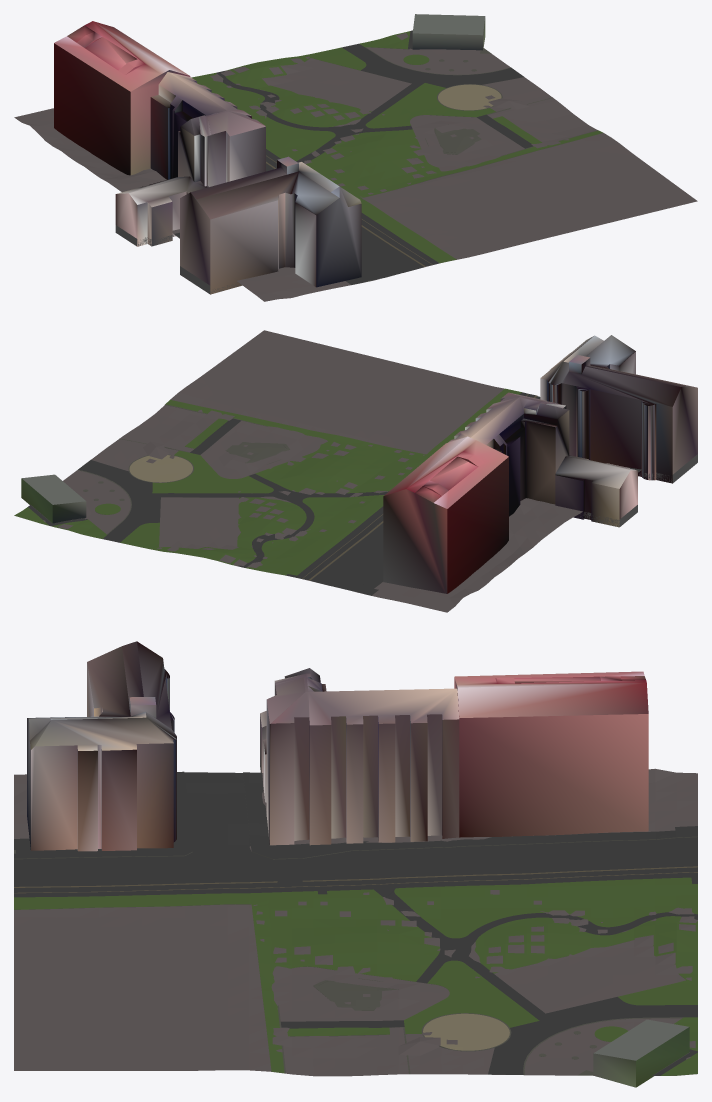
3 views of the same model, one above another, from view 1: azimuth 30°, elevation 25°; view 2: azimuth 150°, elevation 25°; view 3: azimuth 270°, elevation 25° (orthographic). The views are drawn at different scales.
Parts seen in each view (by area): view 1: c_m02_m17; view 2: c_m02_m17; view 3: c_m02_m17.
Part boxes in pixels (<box>): c_m02_m17: <box>14,14,697,301</box>; c_m02_m17: <box>14,330,697,612</box>; c_m02_m17: <box>14,641,697,1087</box>.
Bounding box in the file's own units: 143 × 30.24 × 128.
